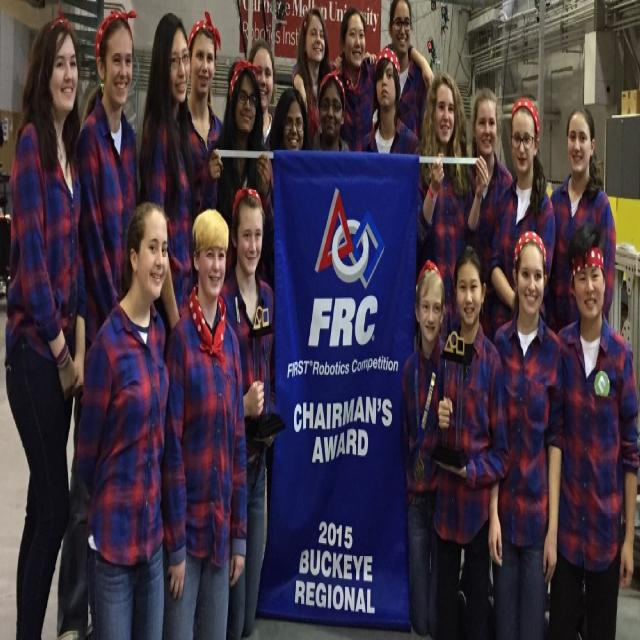body: (0, 2, 92, 638), (66, 188, 173, 638), (70, 2, 138, 638), (546, 214, 639, 638), (160, 207, 248, 640), (487, 222, 567, 639), (431, 236, 511, 638), (219, 184, 274, 638), (416, 71, 490, 366), (290, 5, 436, 154), (138, 9, 198, 330), (400, 254, 448, 640), (196, 56, 276, 284), (487, 90, 558, 342), (543, 101, 618, 339), (334, 0, 436, 154), (293, 4, 378, 143), (468, 85, 514, 322), (186, 10, 224, 220), (358, 46, 420, 156), (242, 34, 282, 178), (310, 70, 352, 152), (268, 86, 312, 152)
